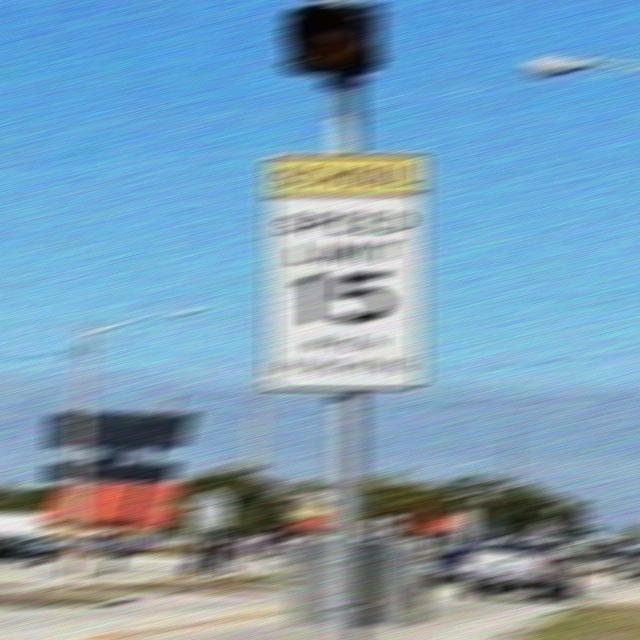speedLimit15: (252, 194, 431, 352)
